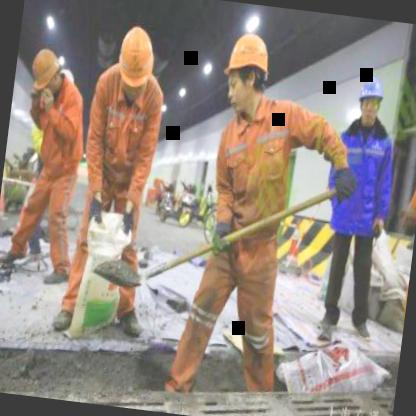helmet: (221, 23, 274, 121), (112, 23, 158, 94), (26, 44, 68, 112), (353, 72, 387, 128)
